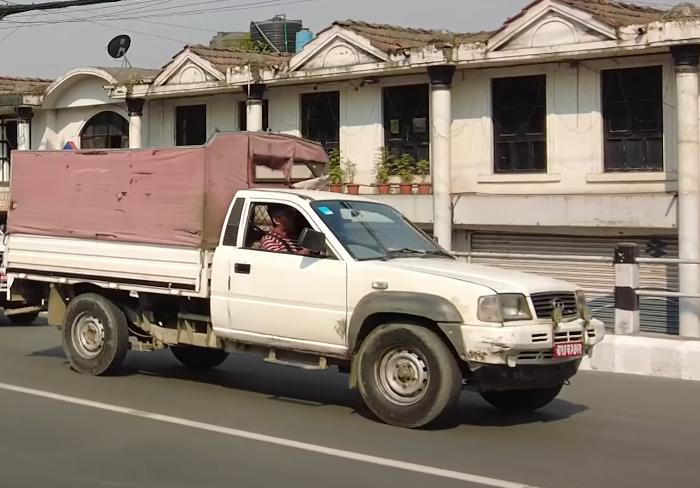transport_vehicle: (1, 119, 601, 437)
